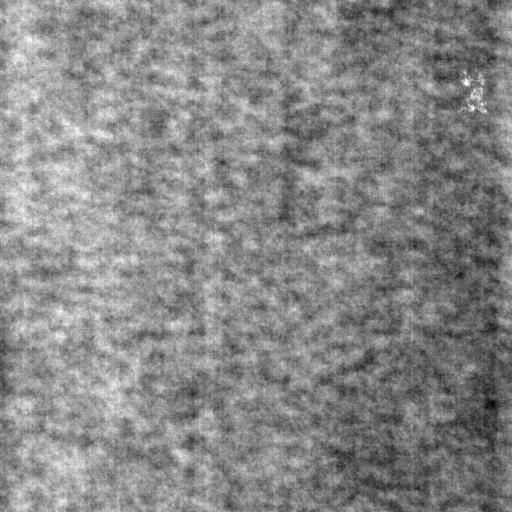DefectTypeA: (457, 71, 488, 116)
